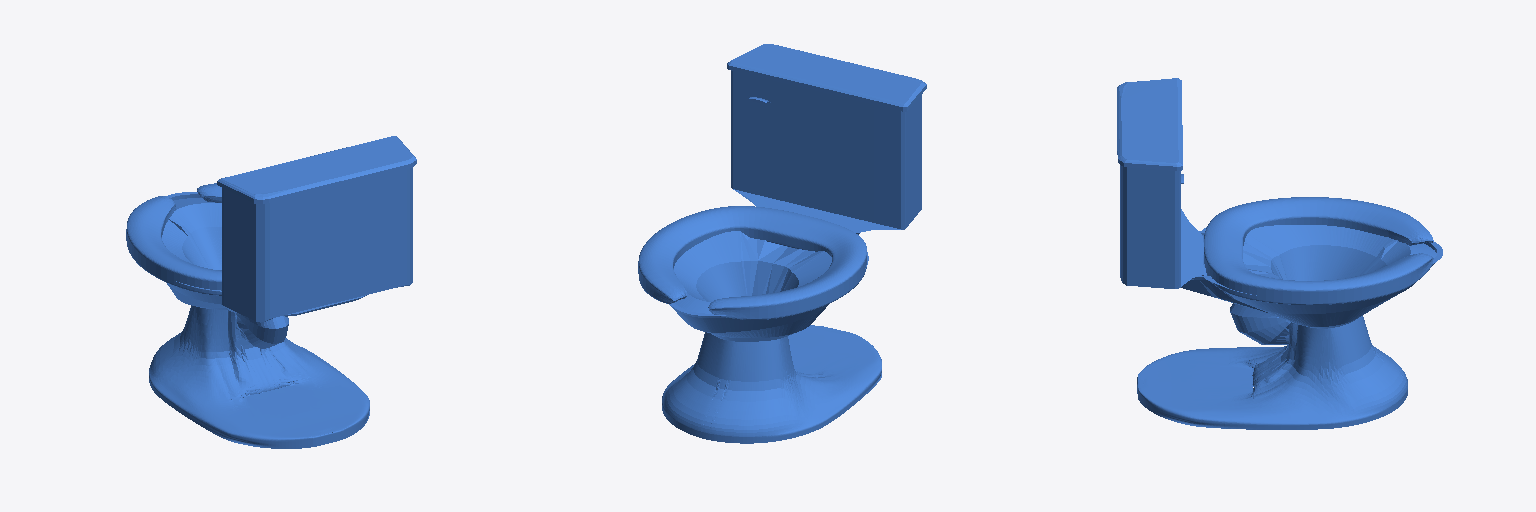
File: Toilet.obj
3 renders of one model, left to right at view 1: azimuth 30°, elevation 25°; view 2: azimuth 150°, elevation 25°; view 3: azimuth 270°, elevation 25°, orthographic.
Visible parts, largest first — view 1: Cylinder001, Tube001; view 2: Cylinder001, Tube001; view 3: Cylinder001, Tube001.
Boxes of the visible parts, x1=… form: Cylinder001: x1=149, y1=136, x2=416, y2=448; Tube001: x1=126, y1=183, x2=221, y2=295; Cylinder001: x1=662, y1=44, x2=926, y2=443; Tube001: x1=638, y1=206, x2=866, y2=319; Cylinder001: x1=1117, y1=78, x2=1442, y2=429; Tube001: x1=1204, y1=197, x2=1433, y2=304.
Size of the model in its own units: 140 by 190 by 208.